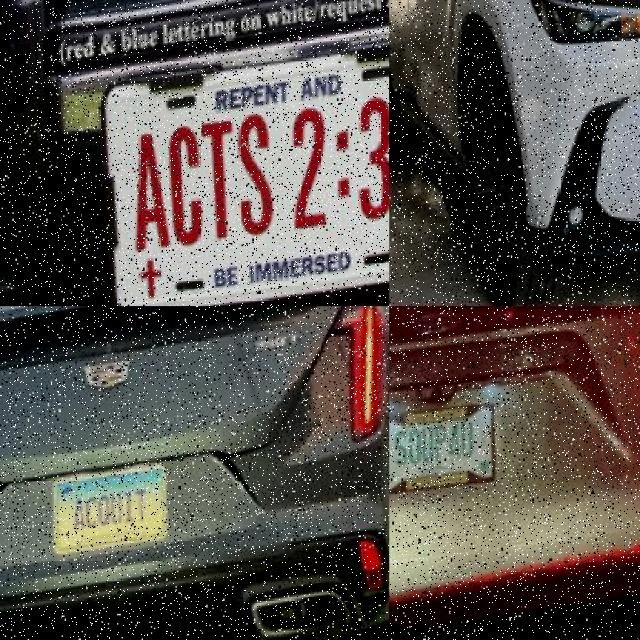licenseplate: (93, 31, 390, 306), (389, 407, 503, 498), (57, 469, 173, 558)
